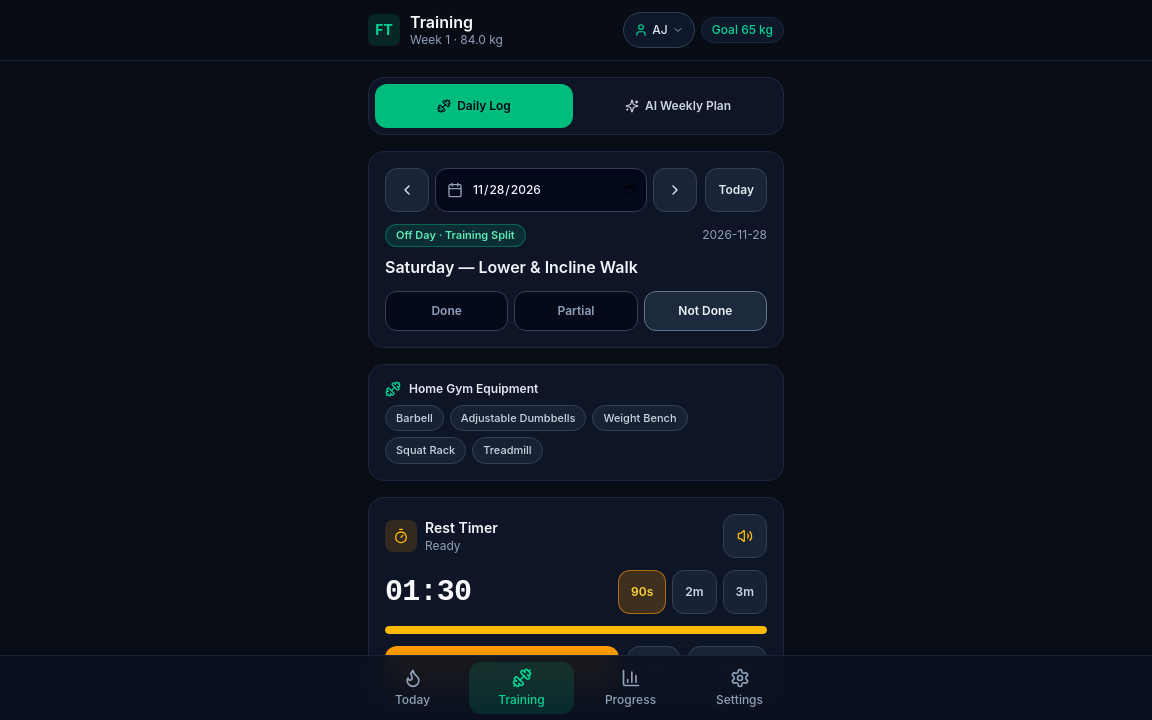
Test: TrainingView, WorkoutLogger, TreadmillLogger & RestTimer › navigates pre-populated Sat, Sun (4-set Bent-Over Row), and Mon interval run splits
Check: the heading "Saturday — Lower & Incline Walk" is shown, box [385,256,638,276]
Check: the text "Barbell" is shown, box [385,404,444,431]
What coordinates should you click on to do the following:
click the button named "Next day"
I would click on:
 (676, 190)
Its box is [654,168,698,212].
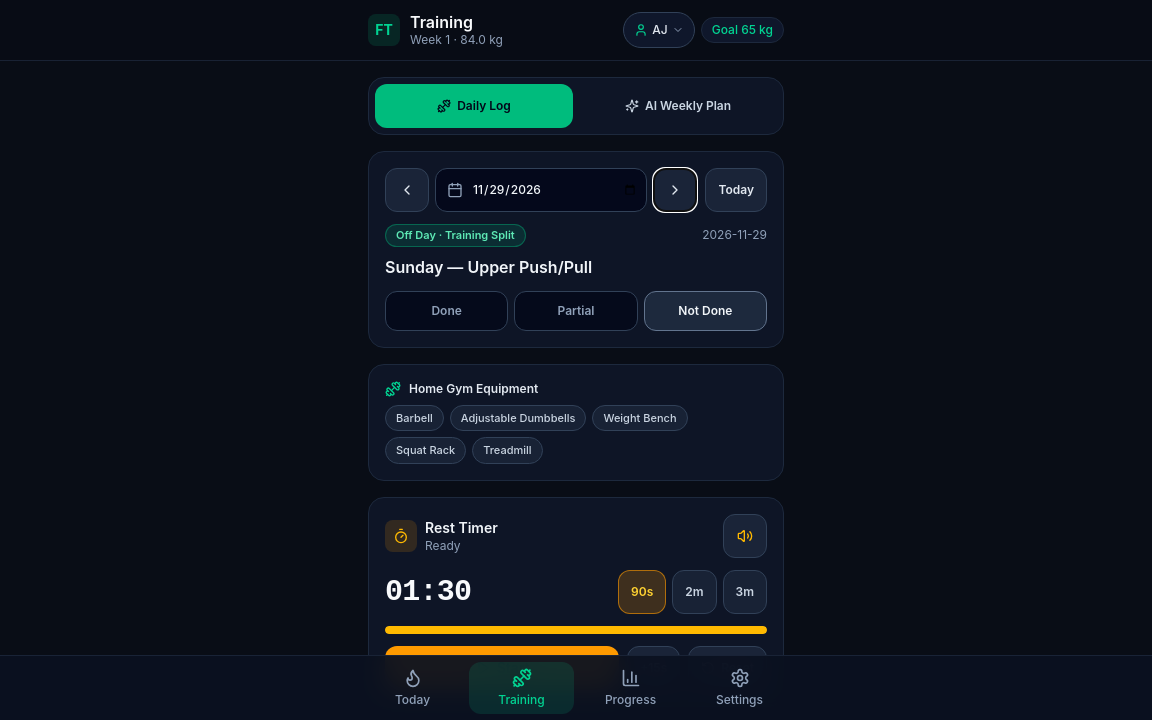
Check: the heading "Sunday — Upper Push/Pull" is shown, box [385,256,592,276]
What coordinates should you click on to do the following:
click the button named "Next day"
I would click on:
 (676, 190)
Its box is [654,168,698,212].
(page scrolled)
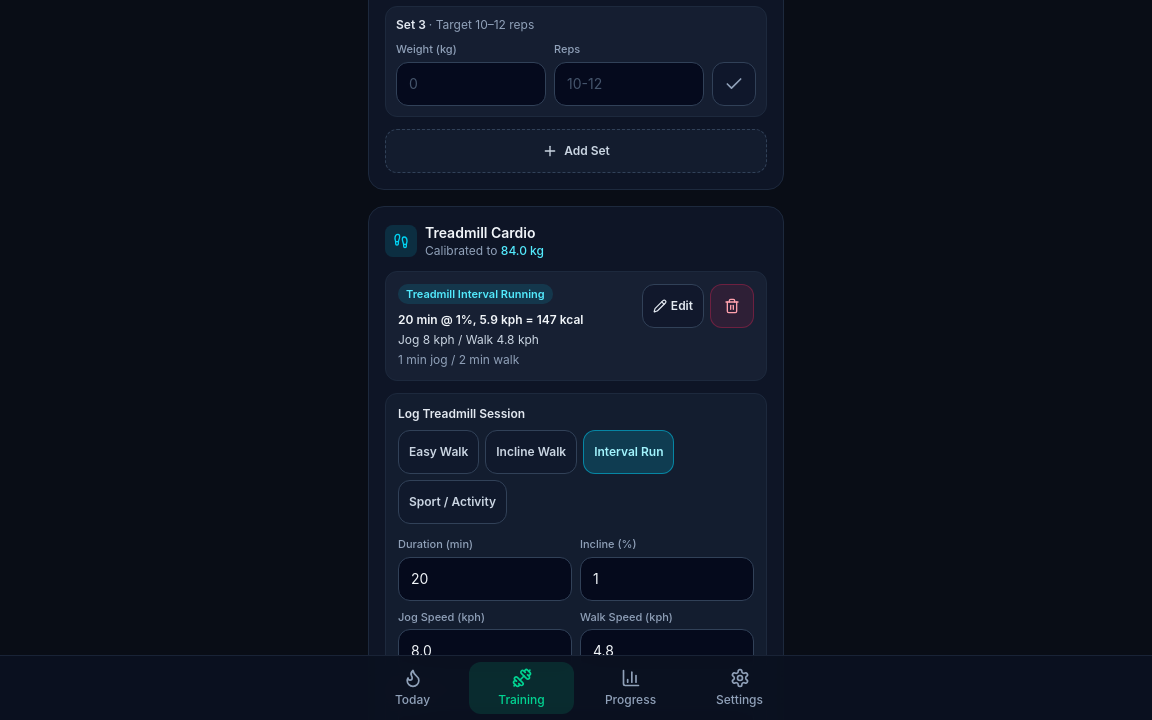
Check: the text "20 min @ 1%, 5.9 kph = 147 kcal" is shown, box [398,312,583,328]
Check: the text "Jog 8 kph / Walk 4.8 kph" is shown, box [398,332,539,347]
Check: the text "1 min jog / 2 min walk" is shown, box [398,352,519,367]
